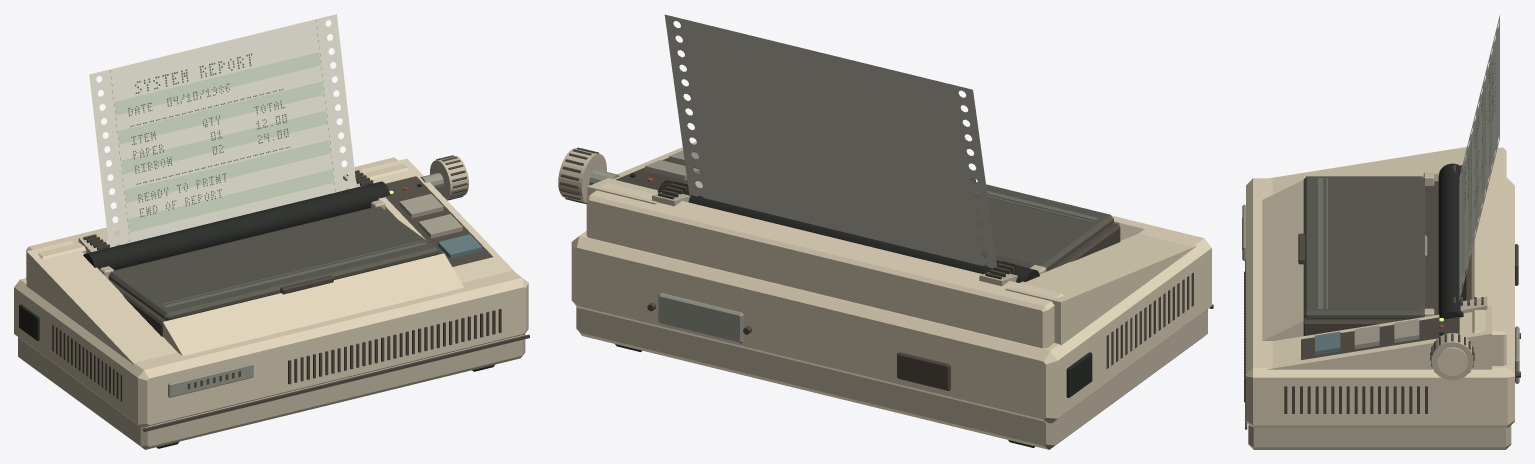
The model's file is retro-printer.glb.
3 views of the same model, side by side, from view 1: azimuth 30°, elevation 25°; view 2: azimuth 150°, elevation 25°; view 3: azimuth 270°, elevation 25° (orthographic). The views are drawn at different scales.
Parts seen in each view (by area): view 1: Printer shell, Printer continuous paper, Printer smoky dust cover, Printer greenbar paper, Printer front sloping cover, Printer lower chassis, Printer left shoulder, Printer rubber platen, Printer perforated margin, Printer front cooling grille, Printer dot matrix print, Printer right control shoulder (+12 smaller); view 2: Printer paper reverse, Printer shell, Printer rear housing, Printer lower chassis, Printer left shoulder, Printer margin reverse, Printer smoky dust cover, Printer rubber platen, Printer rear parallel port, Printer side vents, Printer rear socket, Printer platen knob (+5 smaller); view 3: Printer shell, Printer smoky dust cover, Printer front sloping cover, Printer lower chassis, Printer rear housing, Printer right control shoulder, Printer rubber platen, Printer continuous paper, Printer print mechanism opening, Printer left shoulder, Printer greenbar paper, Printer side vents (+10 smaller).
Boxes of the visible parts, x1,y1,x2,y2 form: Printer shell: (14, 270, 528, 427); Printer continuous paper: (108, 19, 337, 243); Printer smoky dust cover: (108, 206, 438, 320); Printer greenbar paper: (114, 52, 333, 232); Printer front sloping cover: (163, 253, 463, 355); Printer lower chassis: (18, 334, 525, 449); Printer left shoulder: (26, 240, 177, 366); Printer rubber platen: (83, 181, 390, 270); Printer perforated margin: (89, 14, 356, 247); Printer front cooling grille: (288, 308, 501, 384); Printer dot matrix print: (128, 53, 289, 217); Printer right control shoulder: (361, 158, 515, 282); Printer paper reverse: (688, 20, 974, 263); Printer shell: (571, 215, 1211, 423); Printer rear housing: (586, 182, 1063, 348); Printer lower chassis: (576, 307, 1207, 449); Printer left shoulder: (1005, 233, 1196, 345); Printer margin reverse: (664, 14, 997, 268); Printer smoky dust cover: (971, 180, 1113, 271); Printer rubber platen: (657, 180, 1039, 282); Printer rear parallel port: (658, 293, 743, 343); Printer side vents: (1106, 272, 1193, 368); Printer rear socket: (897, 352, 950, 390); Printer platen knob: (558, 148, 606, 202); Printer shell: (1246, 178, 1514, 427); Printer smoky dust cover: (1303, 176, 1424, 319); Printer front sloping cover: (1262, 180, 1303, 340); Printer lower chassis: (1248, 424, 1511, 449); Printer rear housing: (1471, 147, 1506, 365); Printer right control shoulder: (1267, 306, 1491, 369); Printer rubber platen: (1438, 163, 1466, 319); Printer continuous paper: (1459, 24, 1499, 291); Printer print mechanism opening: (1303, 181, 1471, 335); Printer left shoulder: (1270, 146, 1491, 194); Printer greenbar paper: (1461, 56, 1492, 279); Printer side vents: (1284, 386, 1427, 413).
Bounding box in the file's own units: 4.17 × 2.65 × 2.32.
